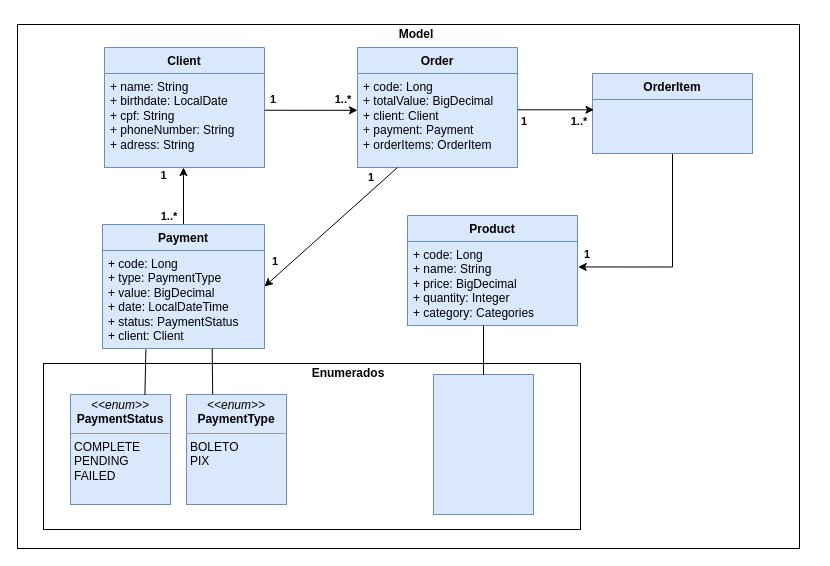
This 830x566 diagram has some shape labels left out. The shapes that lost their labels are listed below. From the top down, each one's centre as x and y in pixels, then its label:
At point (672, 126): "+ productName: String + quantity: Integer + price: BigDecimal".
At point (483, 444): "<<enum>> Categories ELETRONICS CLOTHING FOODS BOOKS GAMES SPORTING".
